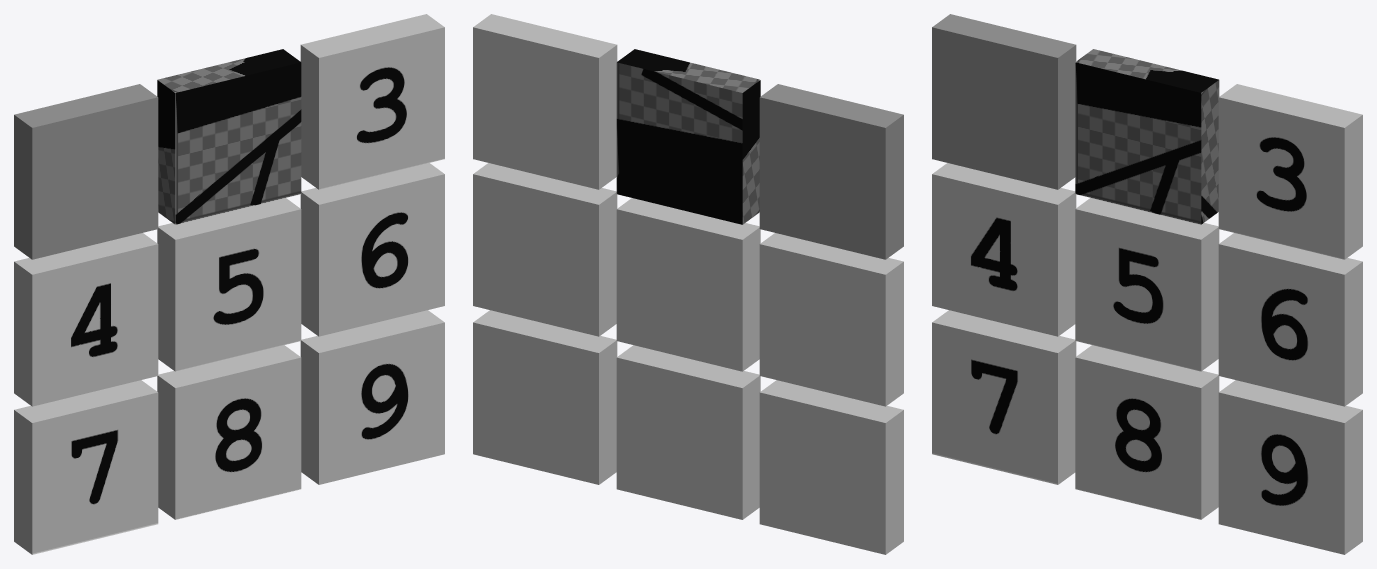
The model's file is KeyPad.fbx.
The picture shows the model from 3 angles, left to right: view 1: azimuth 30°, elevation 25°; view 2: azimuth 150°, elevation 25°; view 3: azimuth 330°, elevation 25°; orthographic projection.
Parts seen in each view (by area): view 1: Box001, Box002, Box003, Box007, Box009, Box008, Box004, Box005, Box006; view 2: Box001, Box002, Box003, Box007, Box009, Box008, Box004, Box005, Box006; view 3: Box003, Box002, Box001, Box009, Box008, Box007, Box006, Box005, Box004.
Boxes of the visible parts, x1,y1,x2,y2 form: Box001: (14,84,158,259); Box002: (157,49,301,224); Box003: (300,14,444,189); Box007: (14,380,158,554); Box009: (300,310,444,484); Box008: (157,345,301,519); Box004: (14,233,158,406); Box005: (157,198,301,371); Box006: (300,163,444,336); Box001: (759,84,903,259); Box002: (616,49,760,224); Box003: (473,14,617,189); Box007: (759,380,903,554); Box009: (473,310,617,484); Box008: (616,345,760,519); Box004: (759,233,903,406); Box005: (616,198,760,371); Box006: (473,163,617,336); Box003: (1218,84,1362,259); Box002: (1075,49,1219,224); Box001: (932,14,1076,189); Box009: (1218,380,1362,554); Box008: (1075,345,1219,519); Box007: (932,310,1076,484); Box006: (1218,233,1362,406); Box005: (1075,198,1219,371); Box004: (932,163,1076,336).
Bounding box in the file's own units: 3.28 × 3.24 × 0.25.
